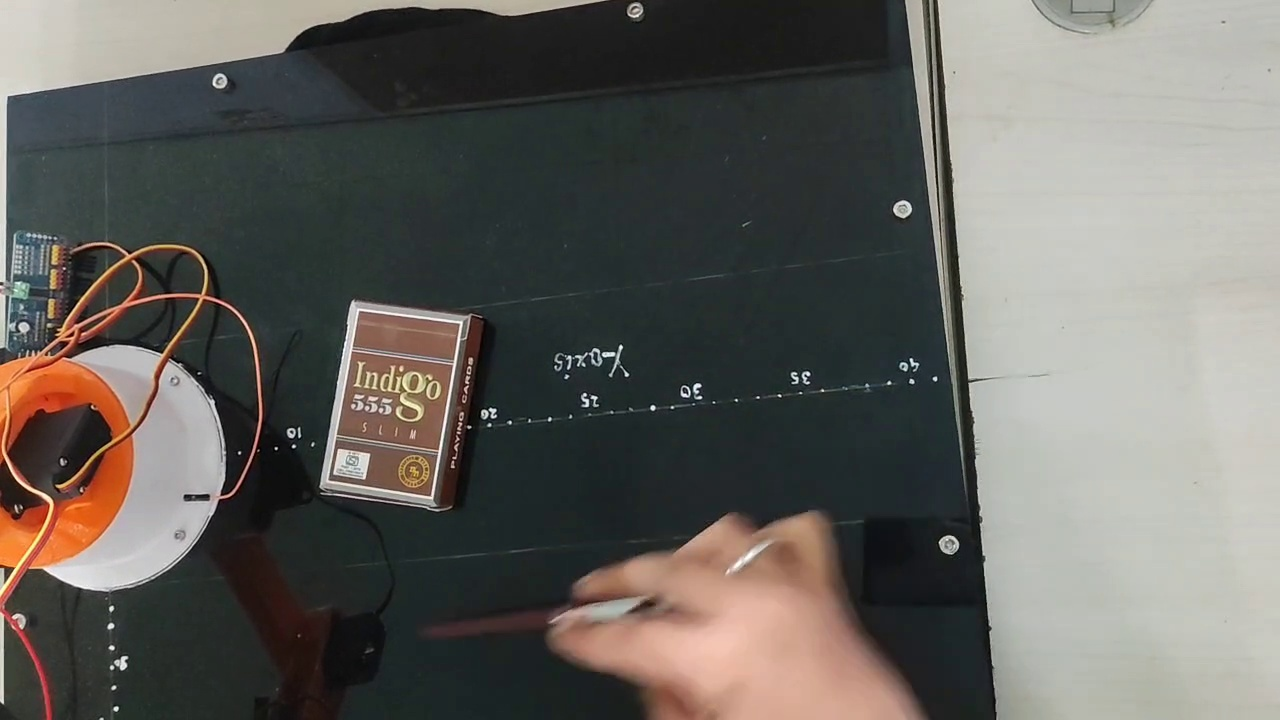BEX: (324, 310, 465, 500)
